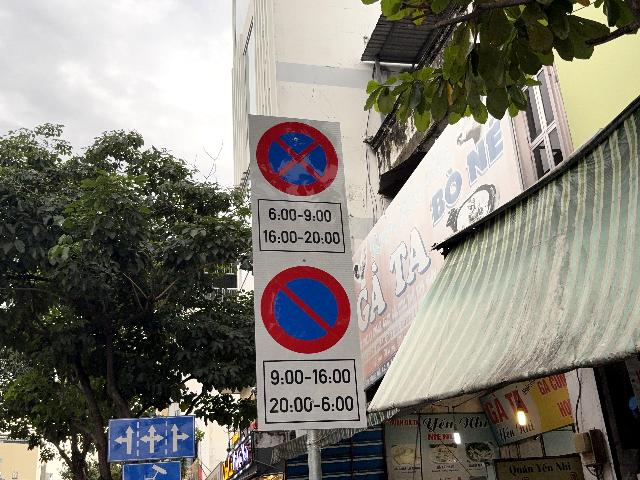cam-do-xe: (261, 266, 350, 353)
cam-dung-va-do-xe: (257, 120, 338, 196)
